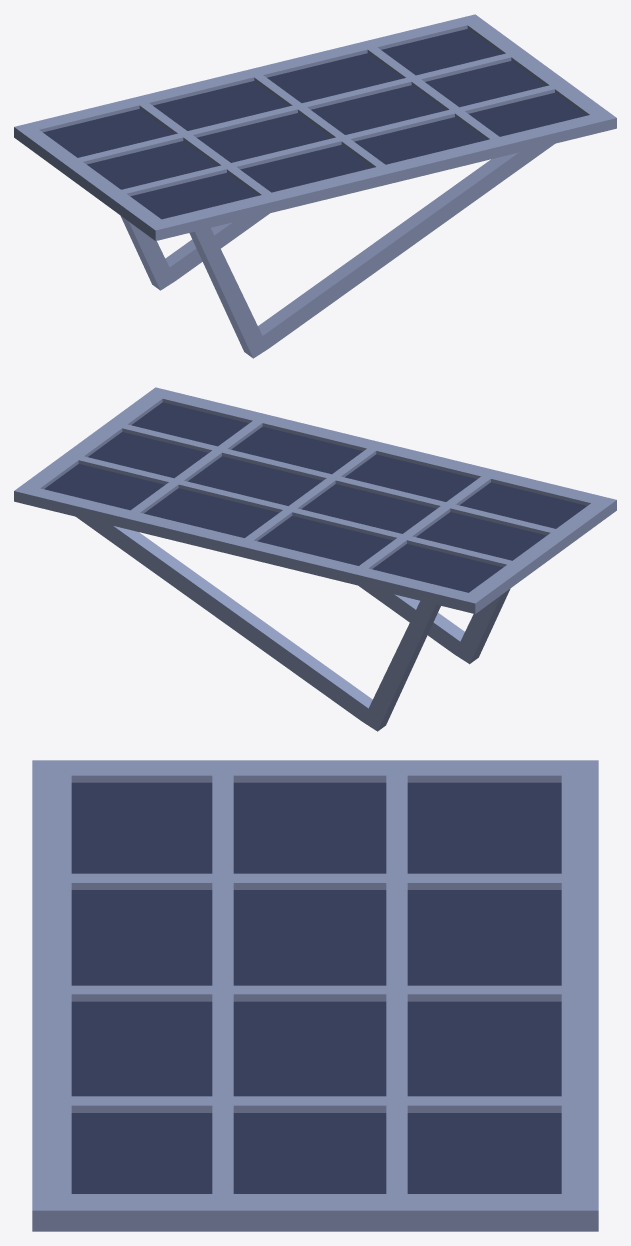
File: batareya.fbx
3 renders of one model, top to bottom at view 1: azimuth 30°, elevation 25°; view 2: azimuth 150°, elevation 25°; view 3: azimuth 270°, elevation 25°, orthographic. The views are drawn at different scales.
Visible parts, largest first — view 1: Куб.002; view 2: Куб.002; view 3: Куб.002.
Boxes of the visible parts, bbox=[...] form: Куб.002: bbox=[14, 14, 616, 358]; Куб.002: bbox=[14, 387, 616, 731]; Куб.002: bbox=[32, 760, 598, 1231].
Bounding box in the file's own units: 376 × 134 × 200.
